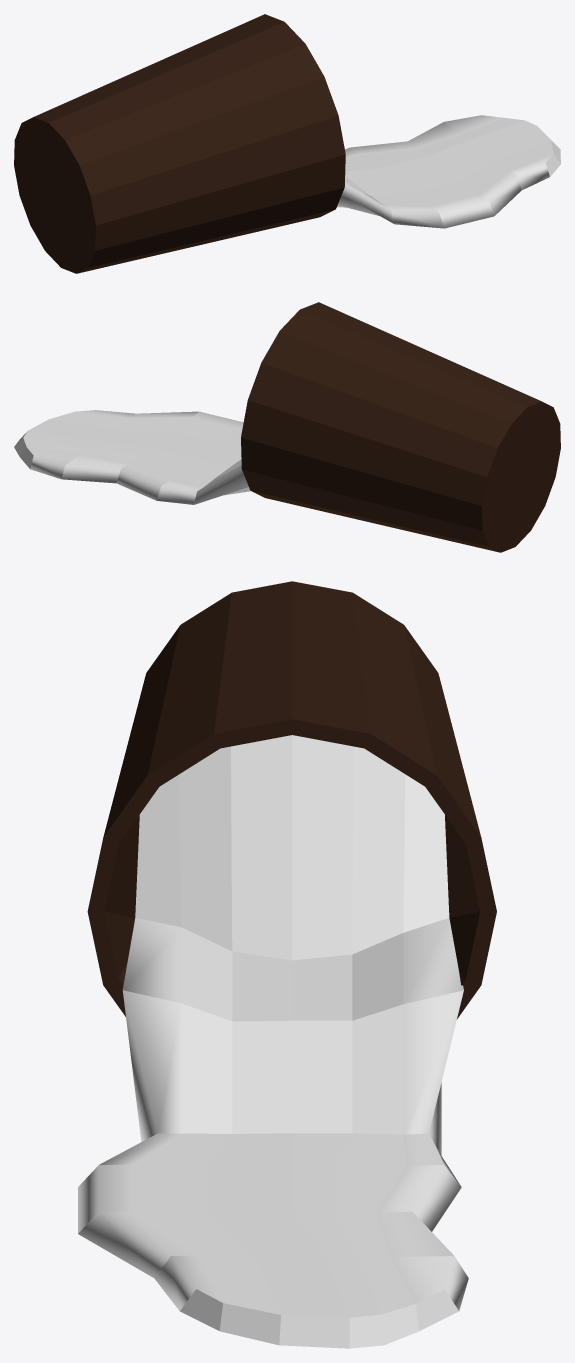
File: Cup2.fbx
3 renders of one model, top to bottom at view 1: azimuth 30°, elevation 25°; view 2: azimuth 150°, elevation 25°; view 3: azimuth 270°, elevation 25°, orthographic. The views are drawn at different scales.
Parts seen in each view (by area): view 1: Cylinder.002; view 2: Cylinder.002; view 3: Cylinder.002.
Part boxes in pixels (x1=…): Cylinder.002: x1=14, y1=14, x2=560, y2=273; Cylinder.002: x1=14, y1=302, x2=560, y2=552; Cylinder.002: x1=78, y1=581, x2=496, y2=1348.
Size of the model in its own units: 622 by 223 by 229.
